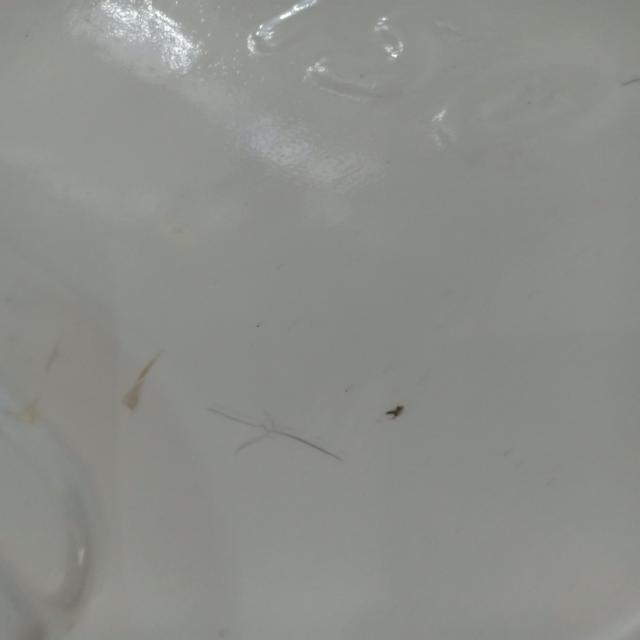Rupture: (190, 364, 430, 479)
